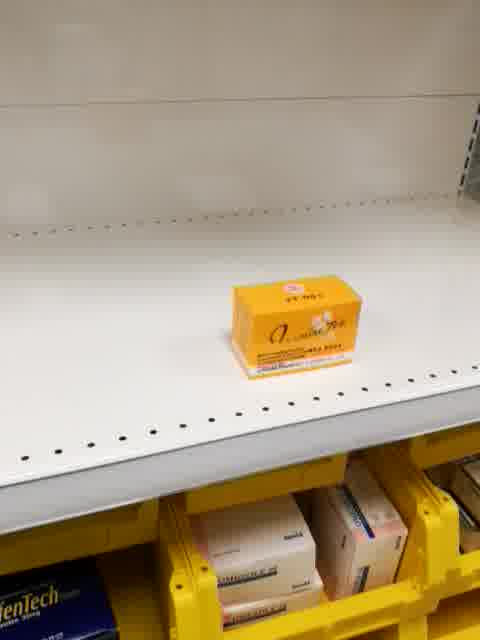jasminetea: (225, 271, 362, 382)
